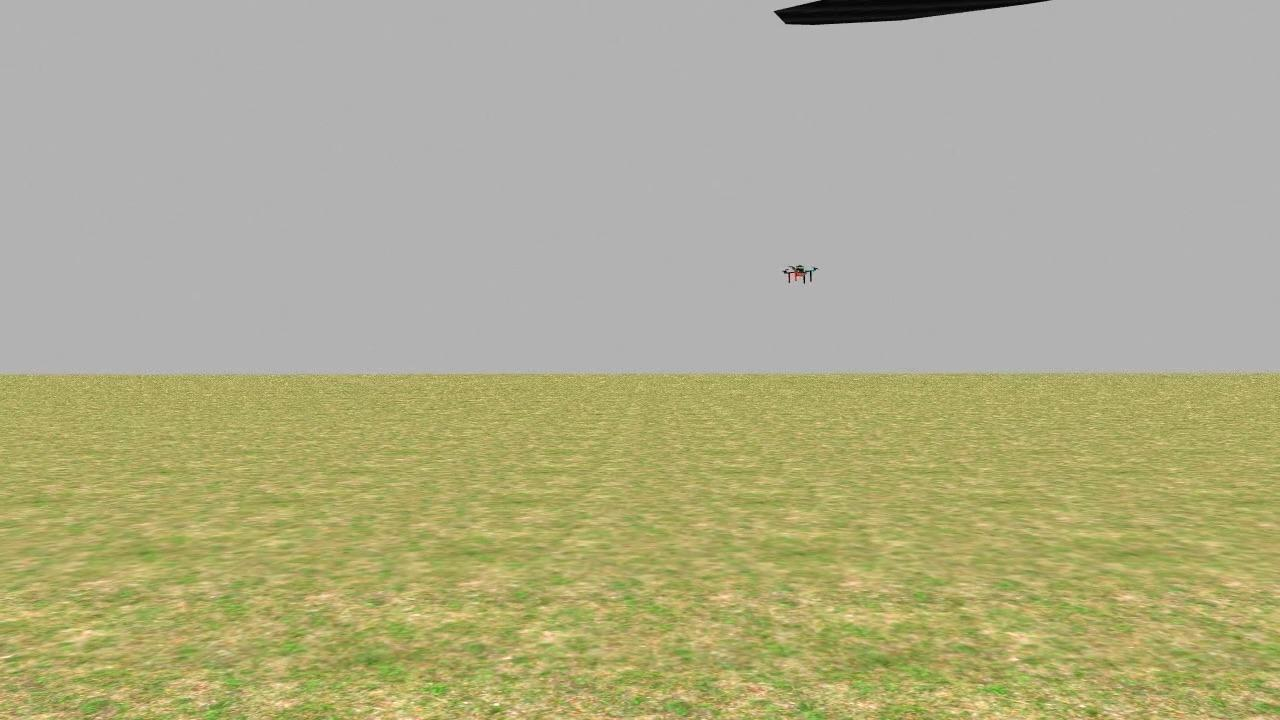UAV: (782, 246, 858, 296)
